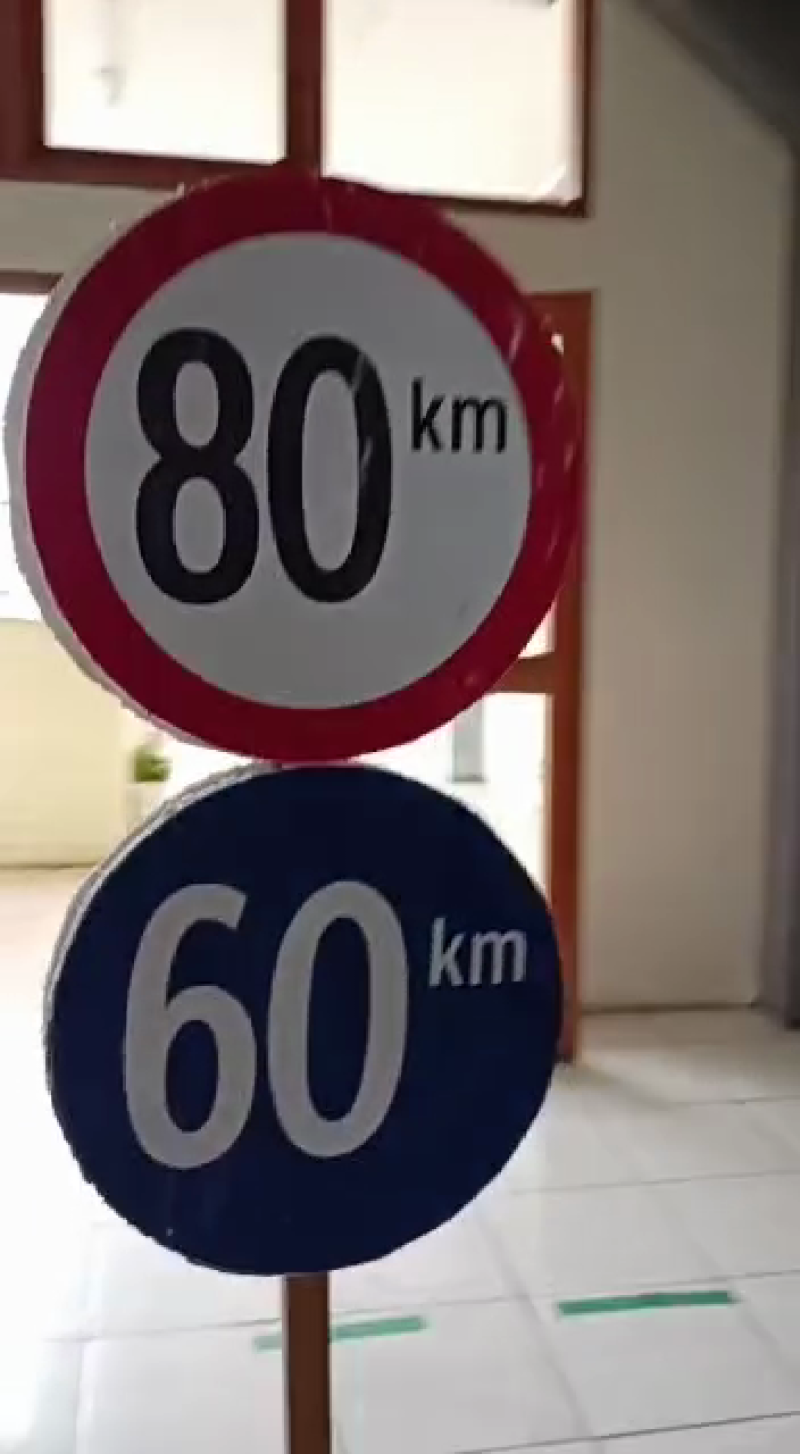batas maksimal 80kmperjam minimal 60kmperjam: (1, 169, 591, 1298)
